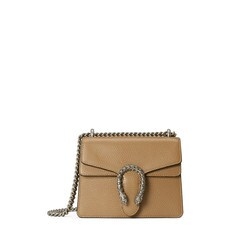Gucci: (60, 112, 199, 227), (115, 162, 161, 209)
